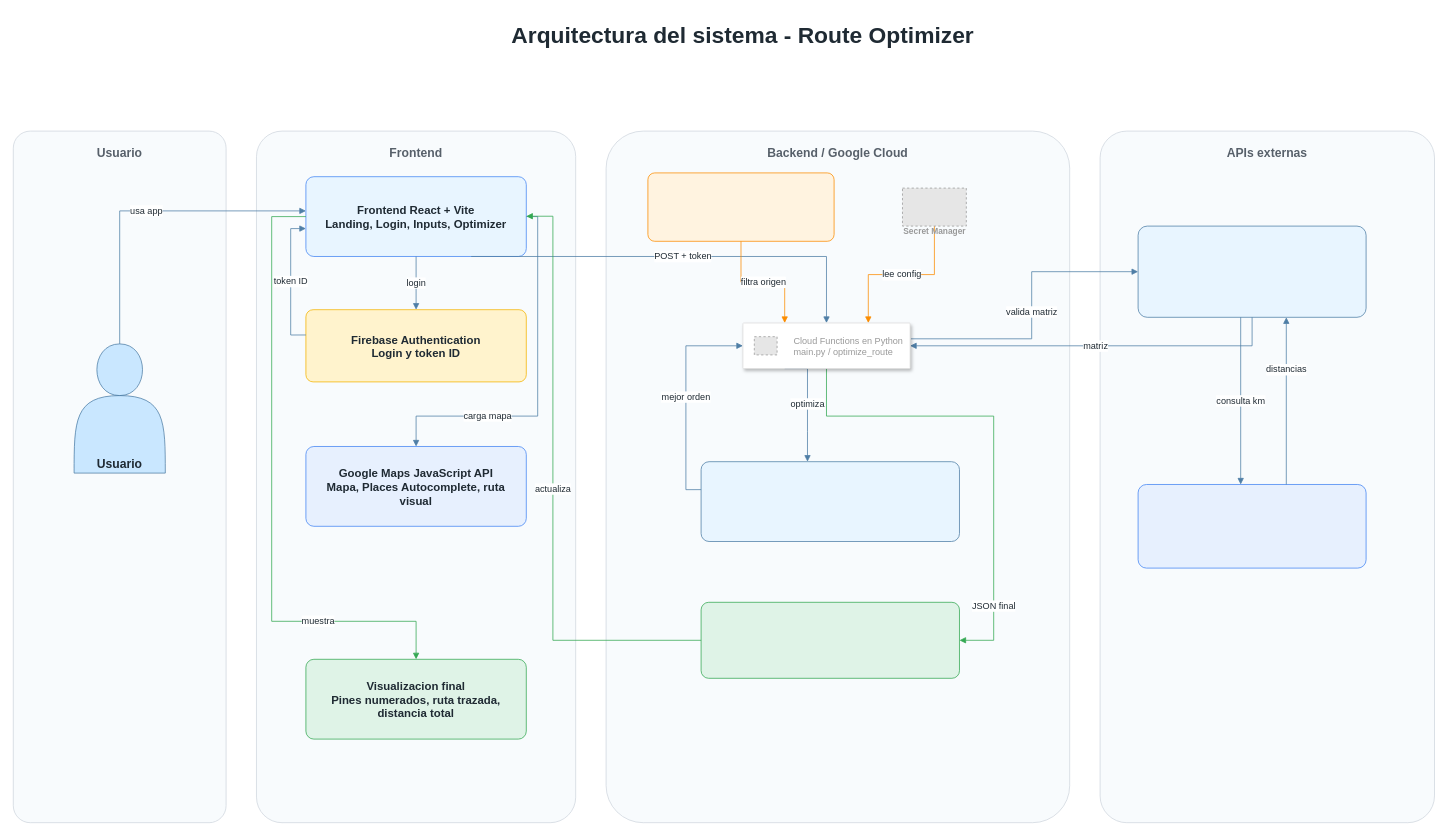
Some shapes in this 1448 by 836 pixel diagram are drawn without their labels. Grey dashed boxes stand in for pictures. The shapes that lost their labels are listed below. From the top down, each one's centre as x and y in pixels, then its label:
At pixel 740 206: "Restriccion de IP ALLOWED_IPS".
At pixel 1251 271: "distance_matrix.py valida 2-15 destinos, radio 100 km, arma matriz".
At pixel 830 501: "genetic_algorithm.py poblacion, fitness, seleccion, cruce, mutacion".
At pixel 1251 526: "Google Maps Distance Matrix API distancias entre destinos en km".
At pixel 830 640: "Respuesta al frontend orden optimo + distancia total".
